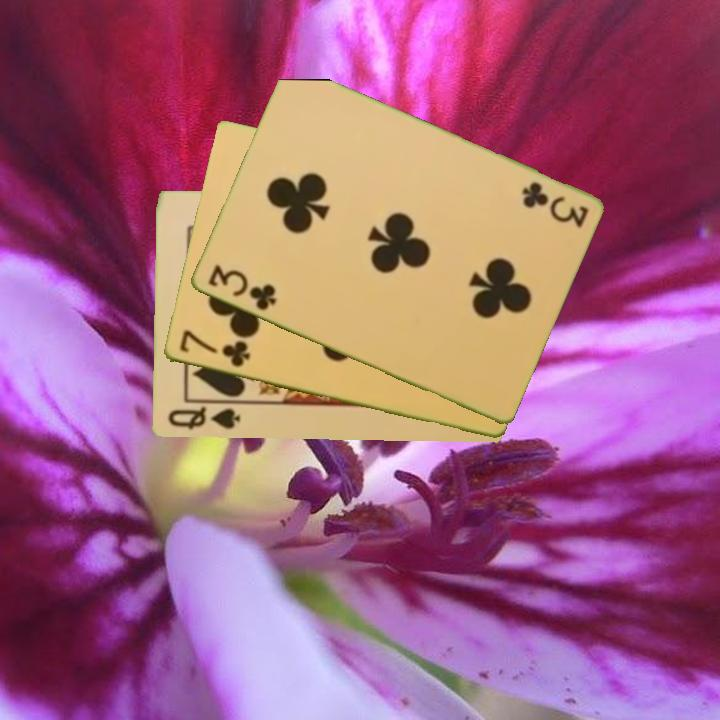3c: (204, 261, 279, 314), (518, 178, 591, 230)
7c: (175, 327, 253, 370)
Qs: (164, 404, 243, 433)
